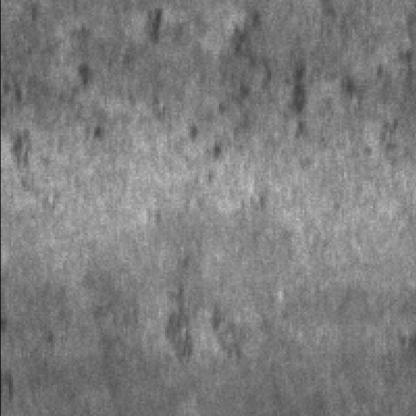rolled-in_scale: (66, 12, 406, 158), (158, 277, 241, 374)
